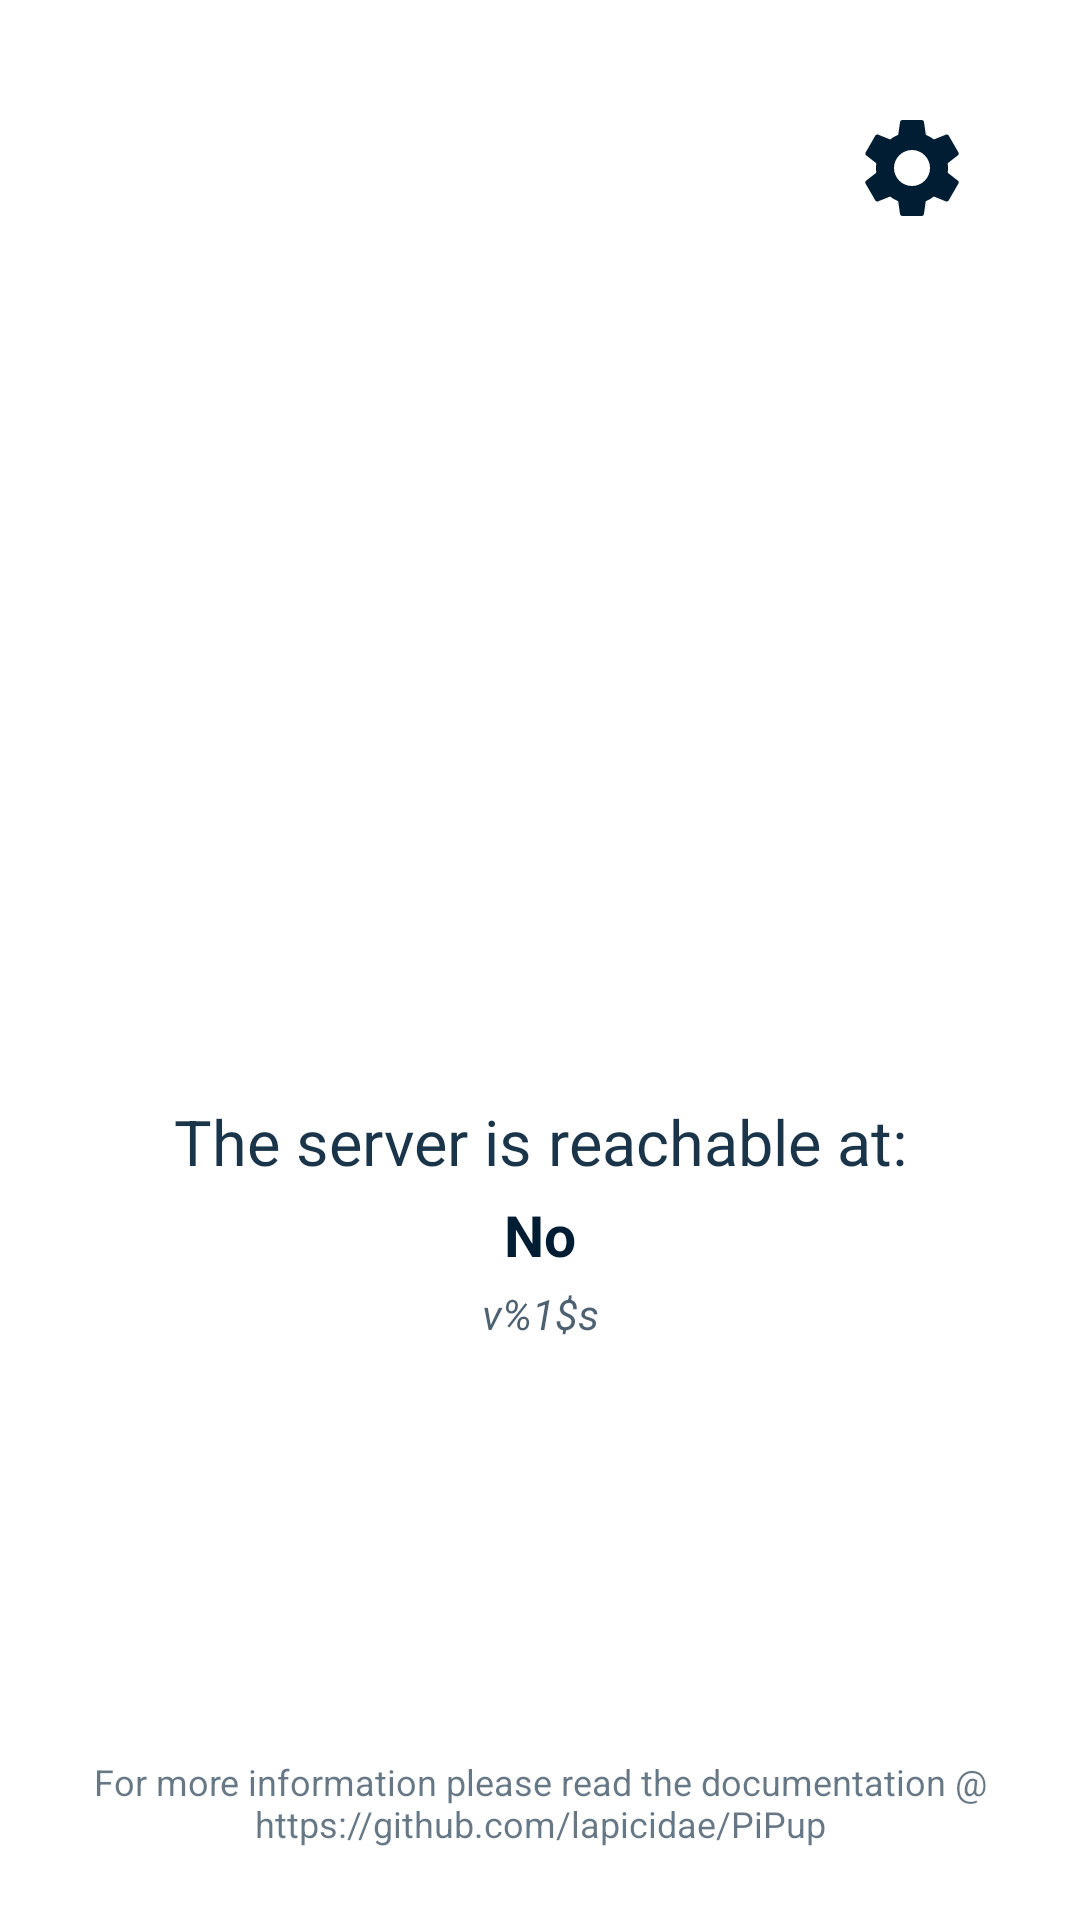

Icons on this 1080x1920 Android screen, each with its box as box=[x1, y1, x2, y2]:
Open Settings: box=[865, 120, 959, 216]
